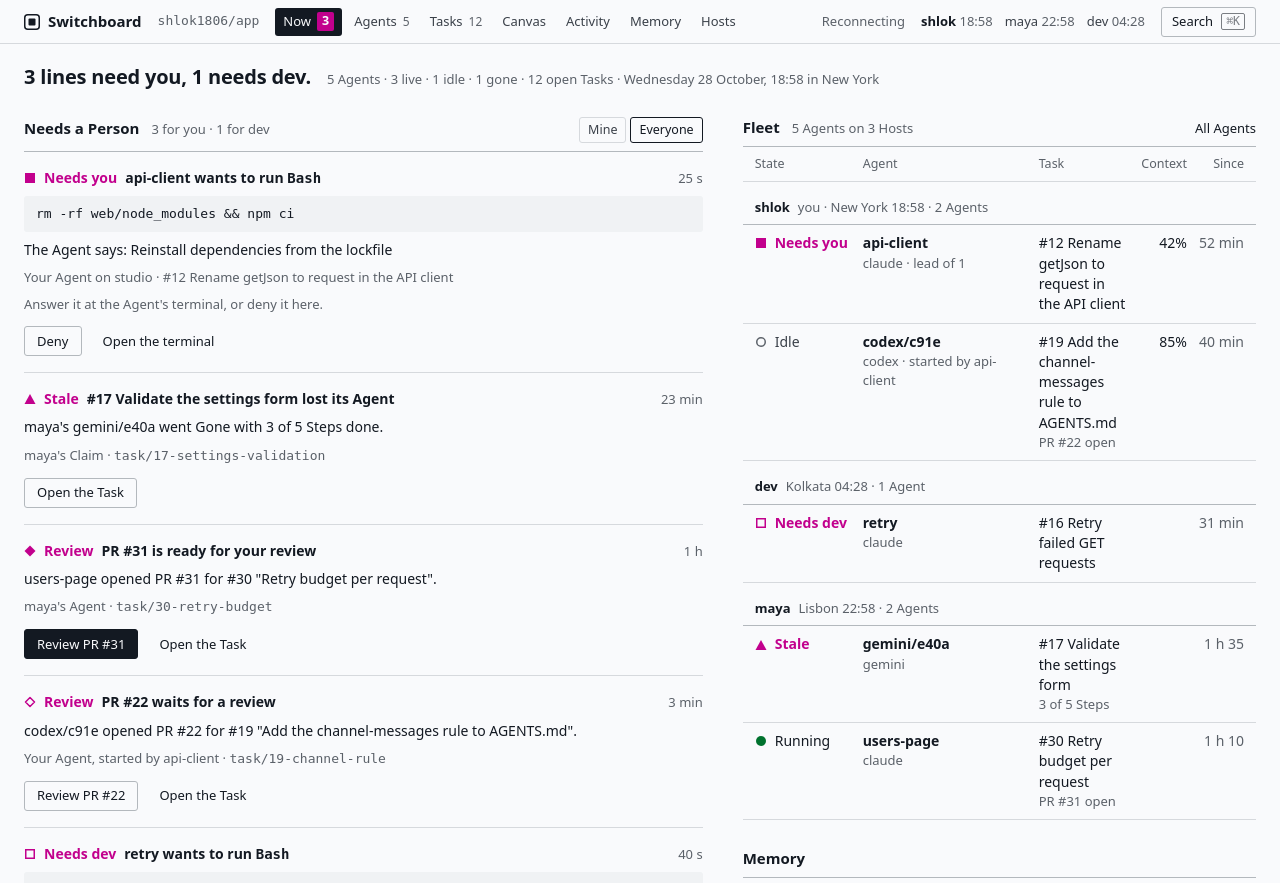
the Now view › counts the same lines on the Now key, in the head and in the queue
Click the button "Mine": (603, 130) [579,117,626,143]
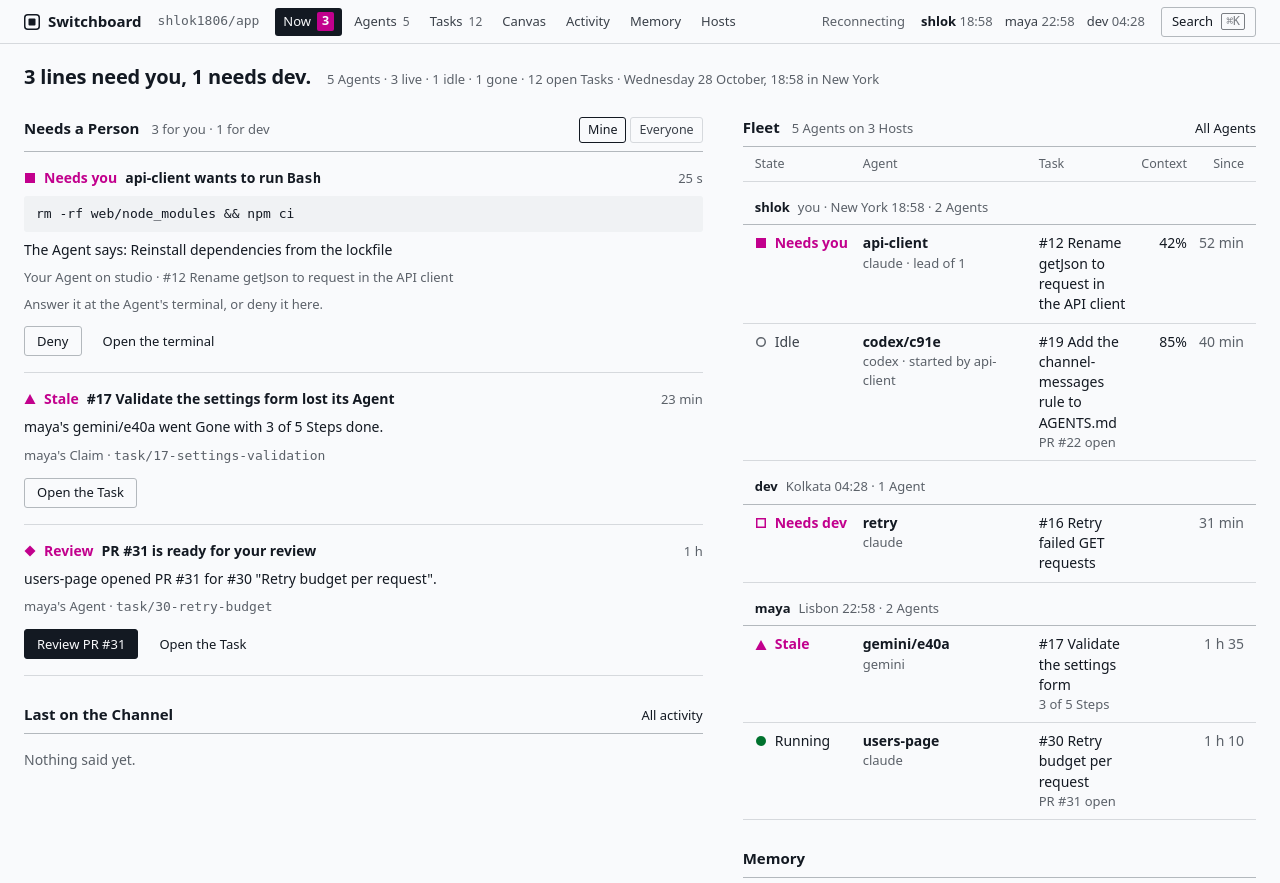
Now the number of list items is 3, box [24,152,703,373]; [24,373,703,524]; [24,524,703,676]
